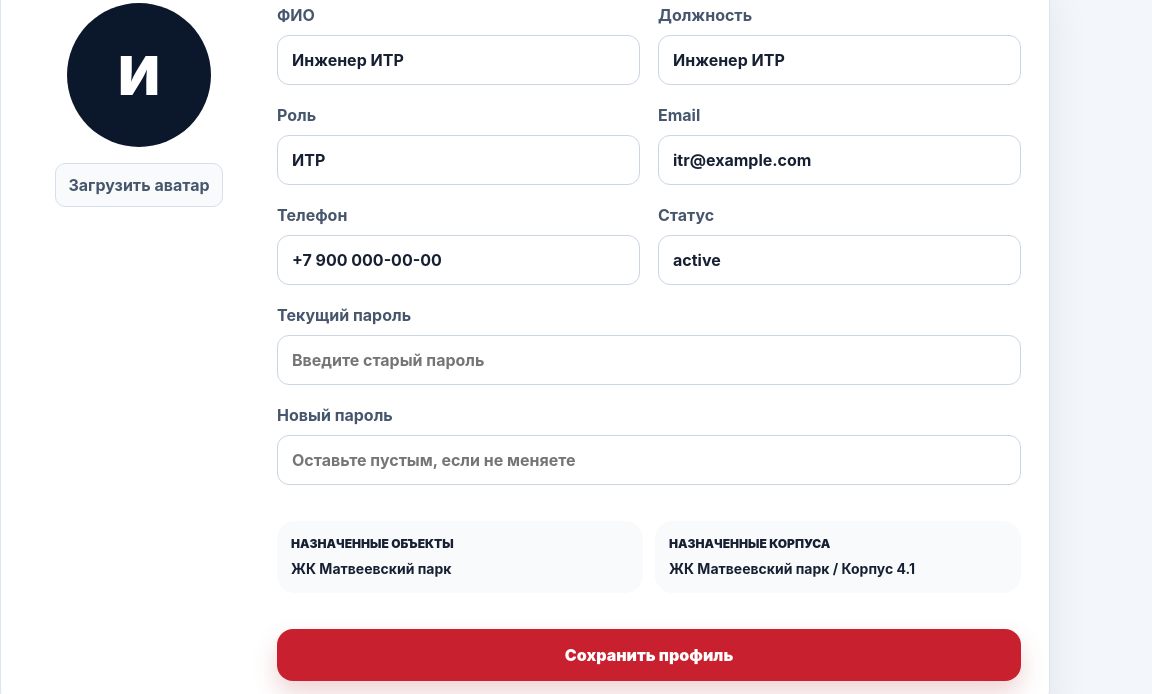
Test: ProfilePage › rejects an invalid current password in local mode
Type "wrong" into the password field labelled "Текущий пароль". click: (649, 360)
box: [277, 335, 1021, 385]
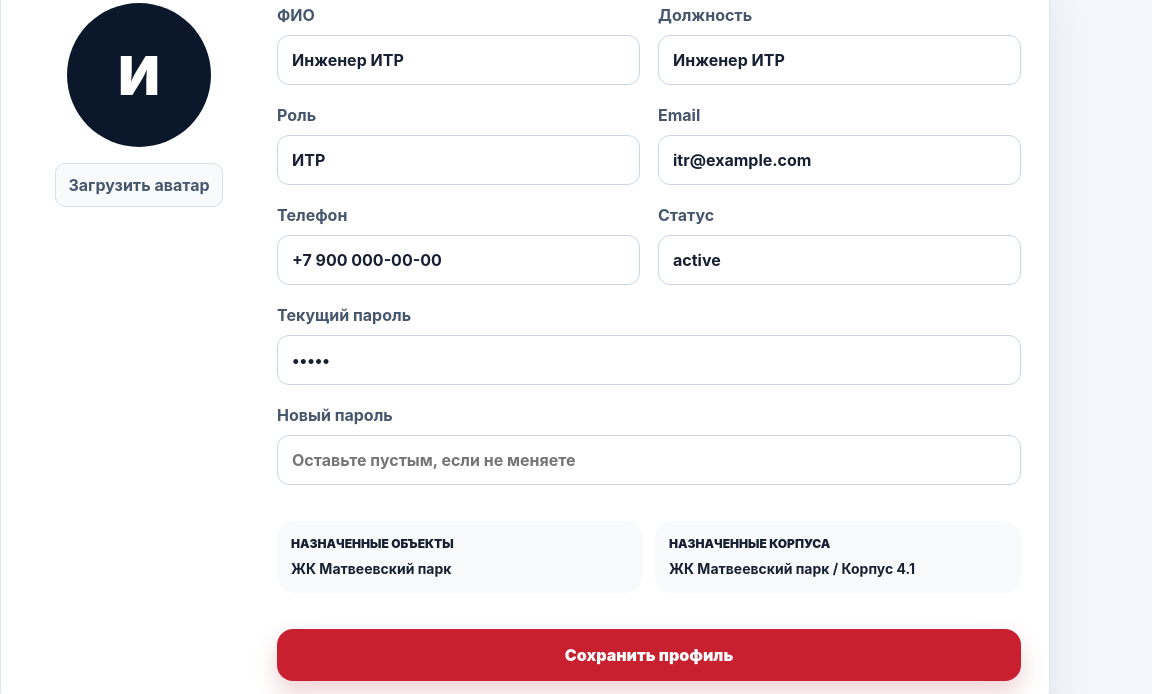
Type "new-password" into the password field labelled "Новый пароль". click: (649, 460)
box: [277, 435, 1021, 485]
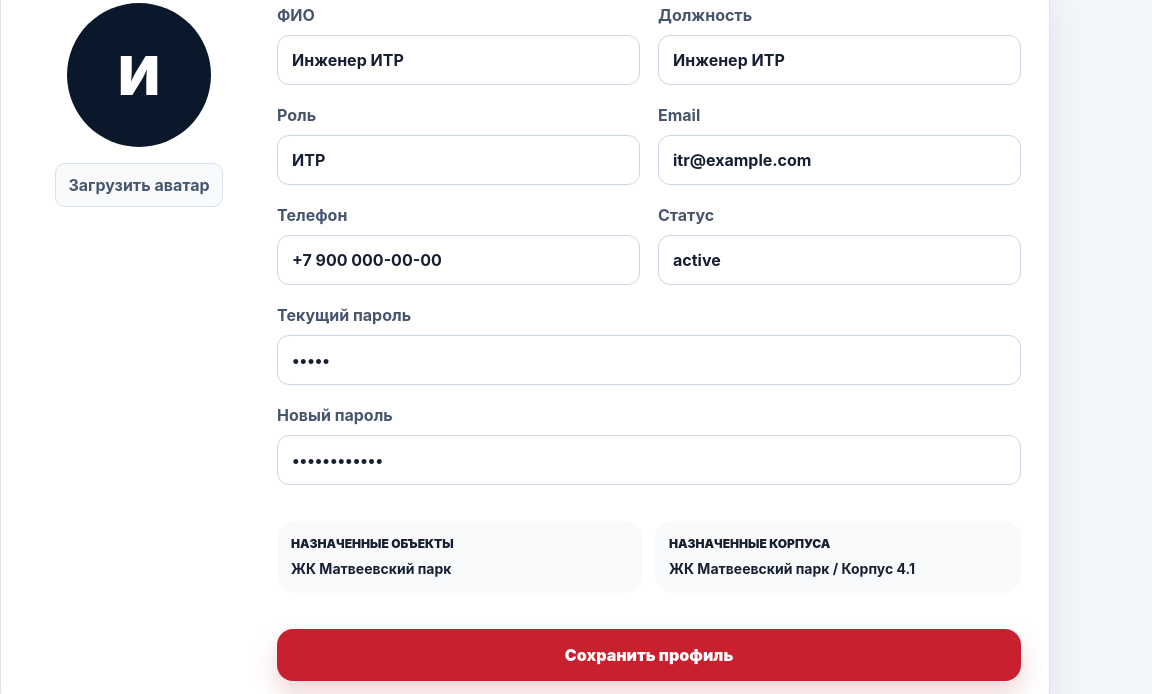
Click the button "Сохранить профиль". click: (649, 655)
box: [277, 629, 1021, 681]
(page scrolled)
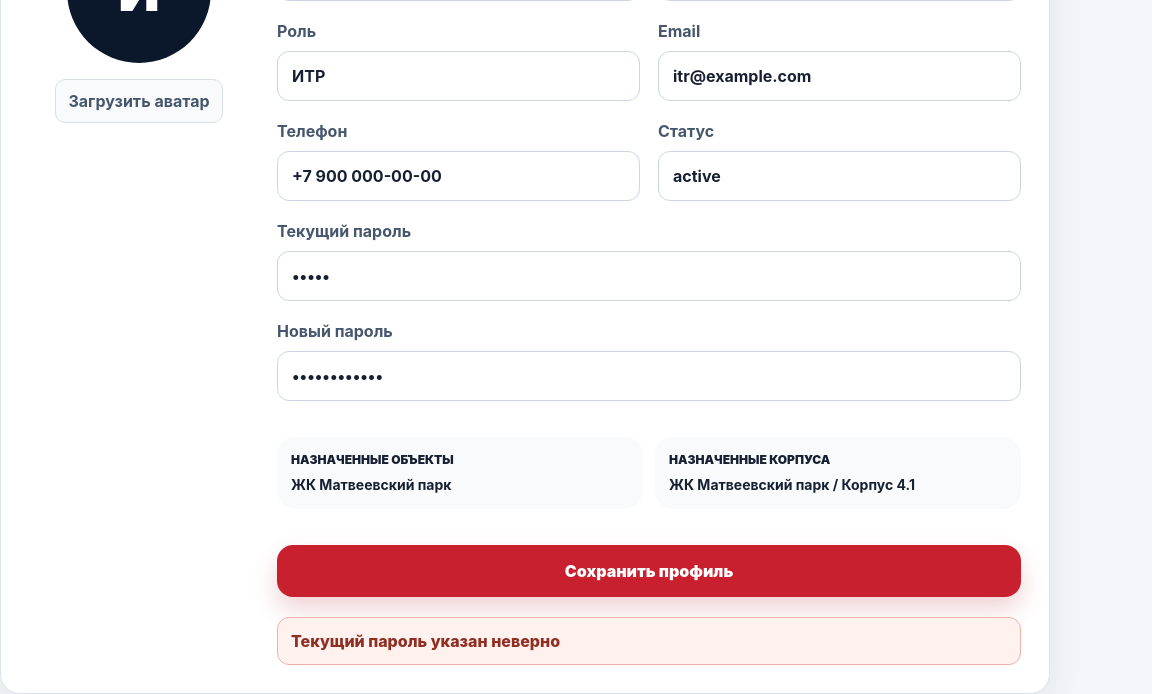
Check: the message reads "Текущий пароль указан неверно", box [291, 631, 560, 651]
